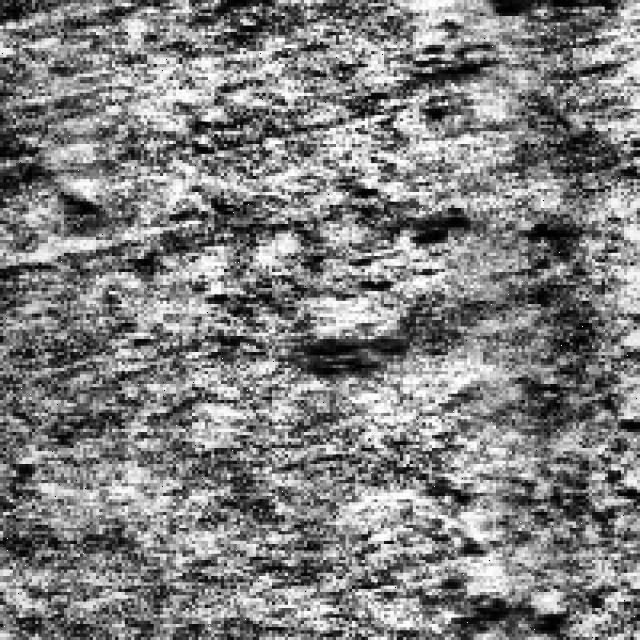Crazing: (298, 189, 470, 384), (419, 467, 576, 637), (406, 0, 550, 83)
